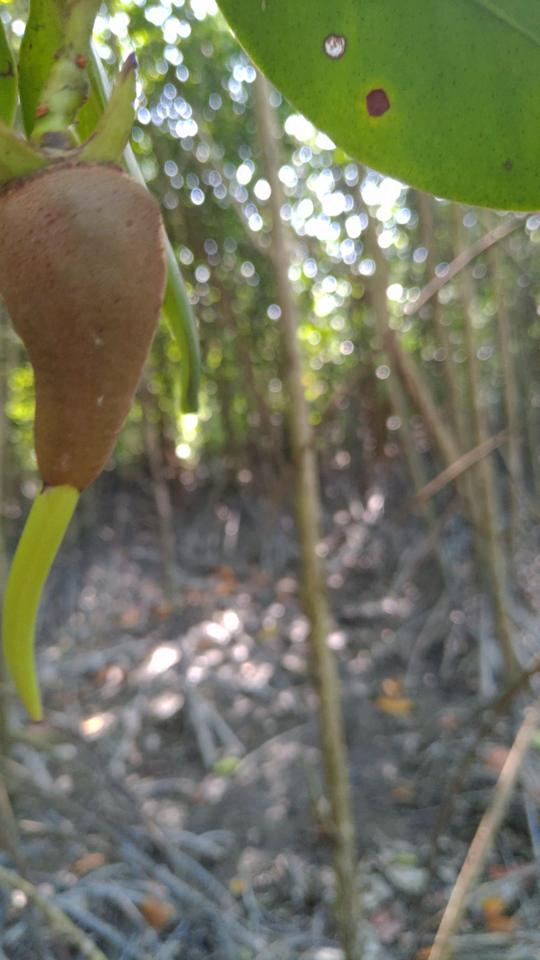mentah: (1, 36, 186, 737)
